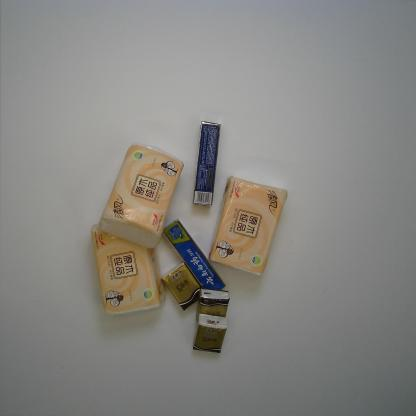Personal Hygiene: (162, 218, 227, 291), (191, 119, 222, 207)
Tissue: (98, 141, 184, 250), (207, 175, 288, 276), (90, 222, 166, 318), (161, 262, 203, 311), (192, 313, 228, 354), (195, 287, 231, 323)
